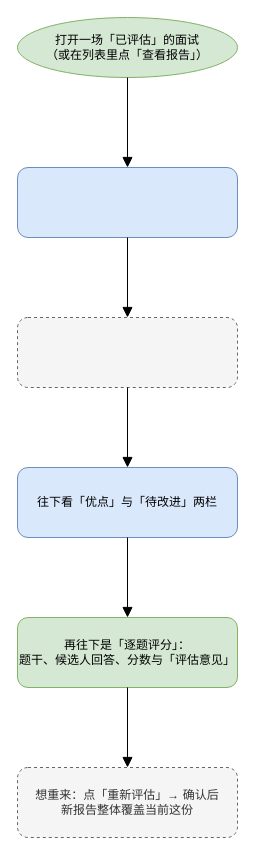
Image size: 255x855. Some labels were removed from this diagram. Each missing label, with the centre of its shape:
"右侧看雷达图： 只定义了 1–2 个维度时改画横条， 并写明「维度不足 3 个，无法绘制雷达图」" belongs at (x=127, y=352).
"页头看总分与综合结论 （满分 10 分，6.5 分及以上为达标）" belongs at (x=127, y=202).
